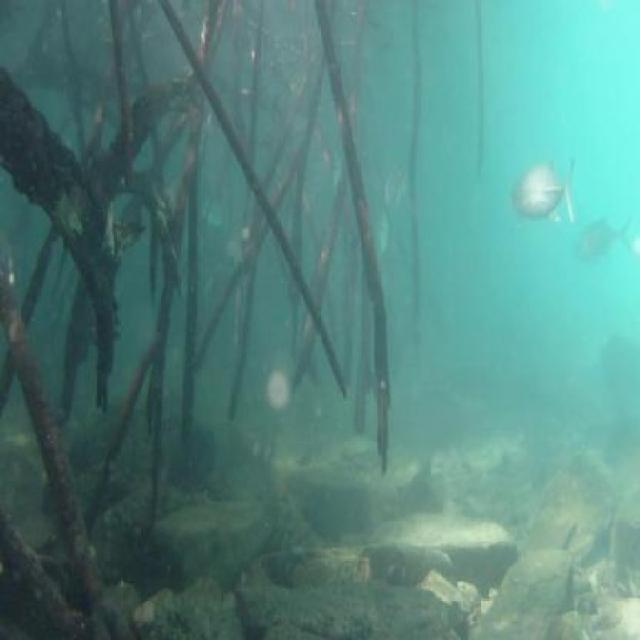Caranx_sexfasciatus_juvenile: (513, 148, 579, 225), (579, 208, 635, 270), (382, 157, 408, 211), (371, 200, 392, 265)
